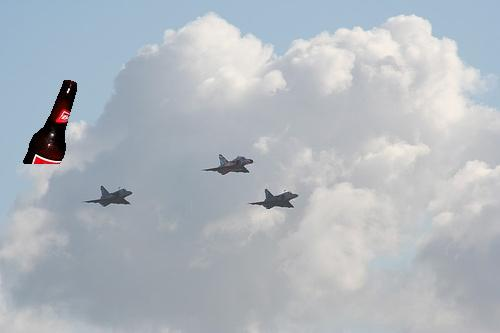tampered: (24, 81, 77, 164)
